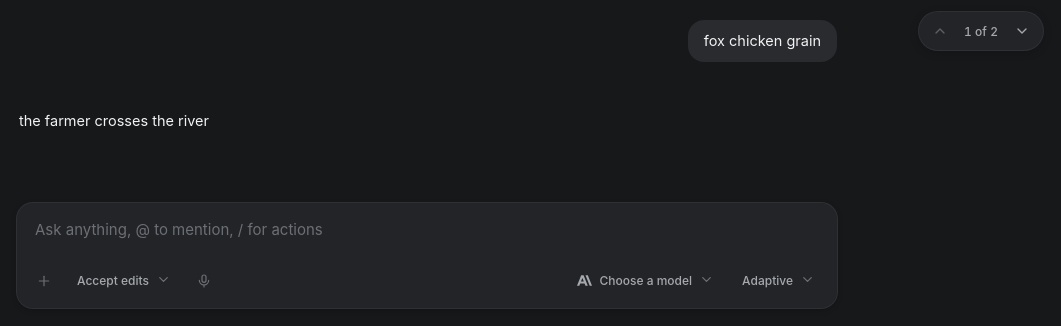
Test case: ConversationView jump-to-match (F1) › renders an "N of M" navigator and stepFocus advances the highlight
This screenshot has width=1061, height=326.
Expected: the text "1 of 2" is shown, [964,24,998,38]
Click the button named "next match": [1022, 31] box [1007,16,1037,46]
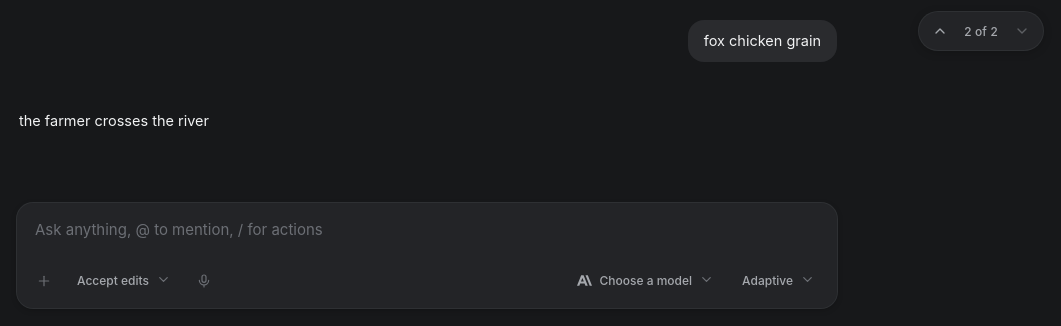
Result: the text "2 of 2" is shown at [964,24,998,38]
